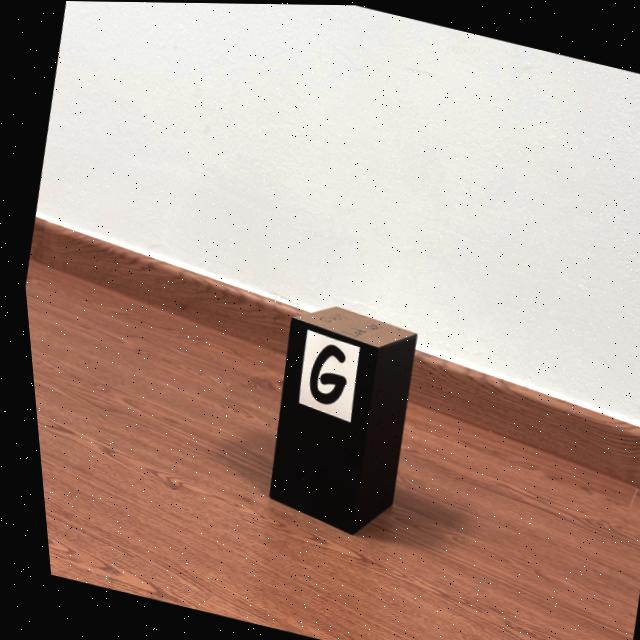G: (302, 343, 339, 404)
